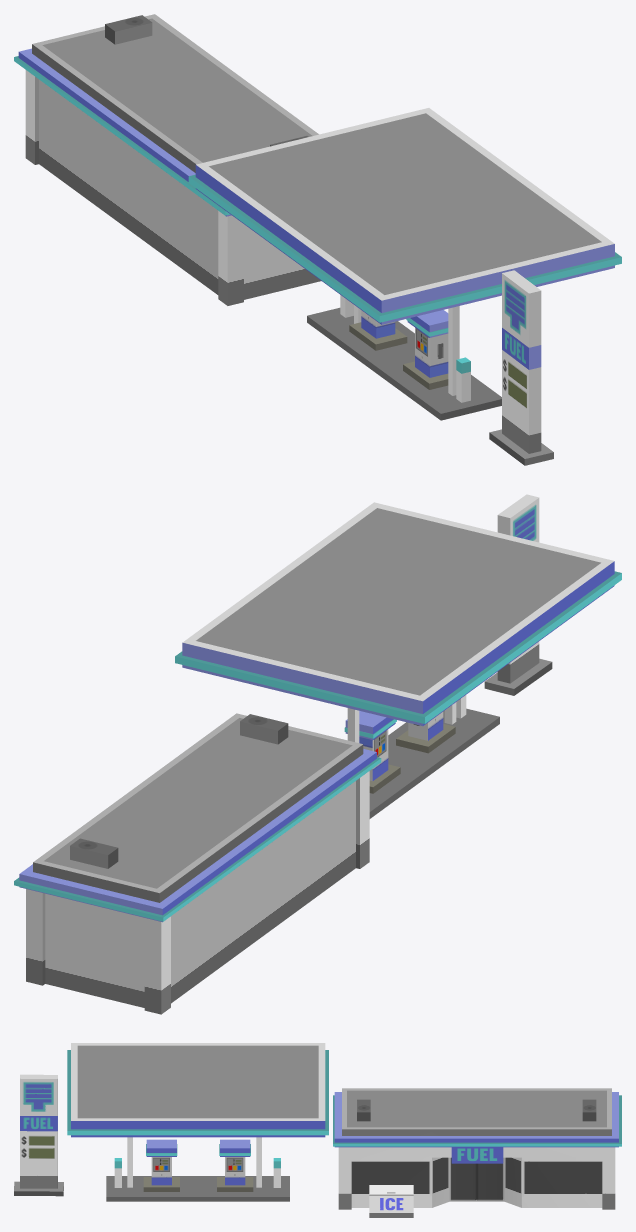
Rendered from gas_station_2.glb.
3 views of the same model, one above another, from view 1: azimuth 30°, elevation 25°; view 2: azimuth 150°, elevation 25°; view 3: azimuth 270°, elevation 25° (orthographic). The views are drawn at different scales.
Parts seen in each view (by area): view 1: petrol_station_cover_mesh, petrol_station_base_mesh, petrol_station_pumps_mesh, petrol_station_sign_mesh; view 2: petrol_station_base_mesh, petrol_station_cover_mesh, petrol_station_pumps_mesh, petrol_station_sign_mesh; view 3: petrol_station_base_mesh, petrol_station_cover_mesh, petrol_station_pumps_mesh, petrol_station_sign_mesh.
Part boxes in pixels (x1,y1,x2,y2): petrol_station_cover_mesh: [188, 108, 621, 395]; petrol_station_base_mesh: [14, 14, 320, 305]; petrol_station_pumps_mesh: [307, 295, 501, 420]; petrol_station_sign_mesh: [489, 270, 553, 465]; petrol_station_base_mesh: [14, 713, 381, 1014]; petrol_station_cover_mesh: [175, 502, 621, 742]; petrol_station_pumps_mesh: [344, 695, 499, 818]; petrol_station_sign_mesh: [484, 494, 552, 695]; petrol_station_base_mesh: [333, 1088, 621, 1217]; petrol_station_cover_mesh: [67, 1043, 328, 1187]; petrol_station_pumps_mesh: [106, 1139, 289, 1201]; petrol_station_sign_mesh: [14, 1074, 63, 1196].
Size of the model in its own units: 0.1488 by 0.0981 by 0.4726.
4 materials, 4 textured.
